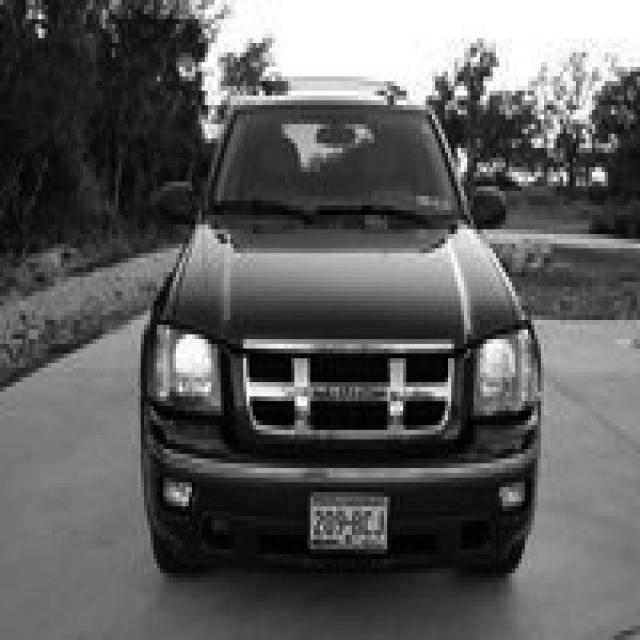car: (138, 77, 540, 573)
